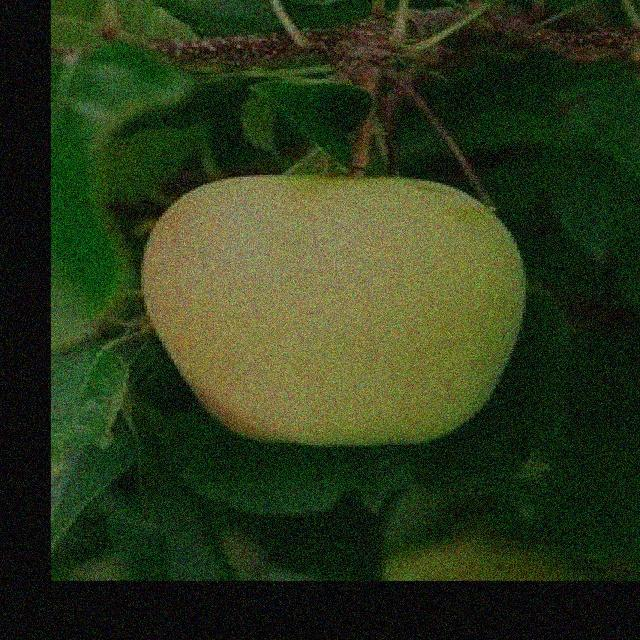green apple: (135, 170, 532, 447)
